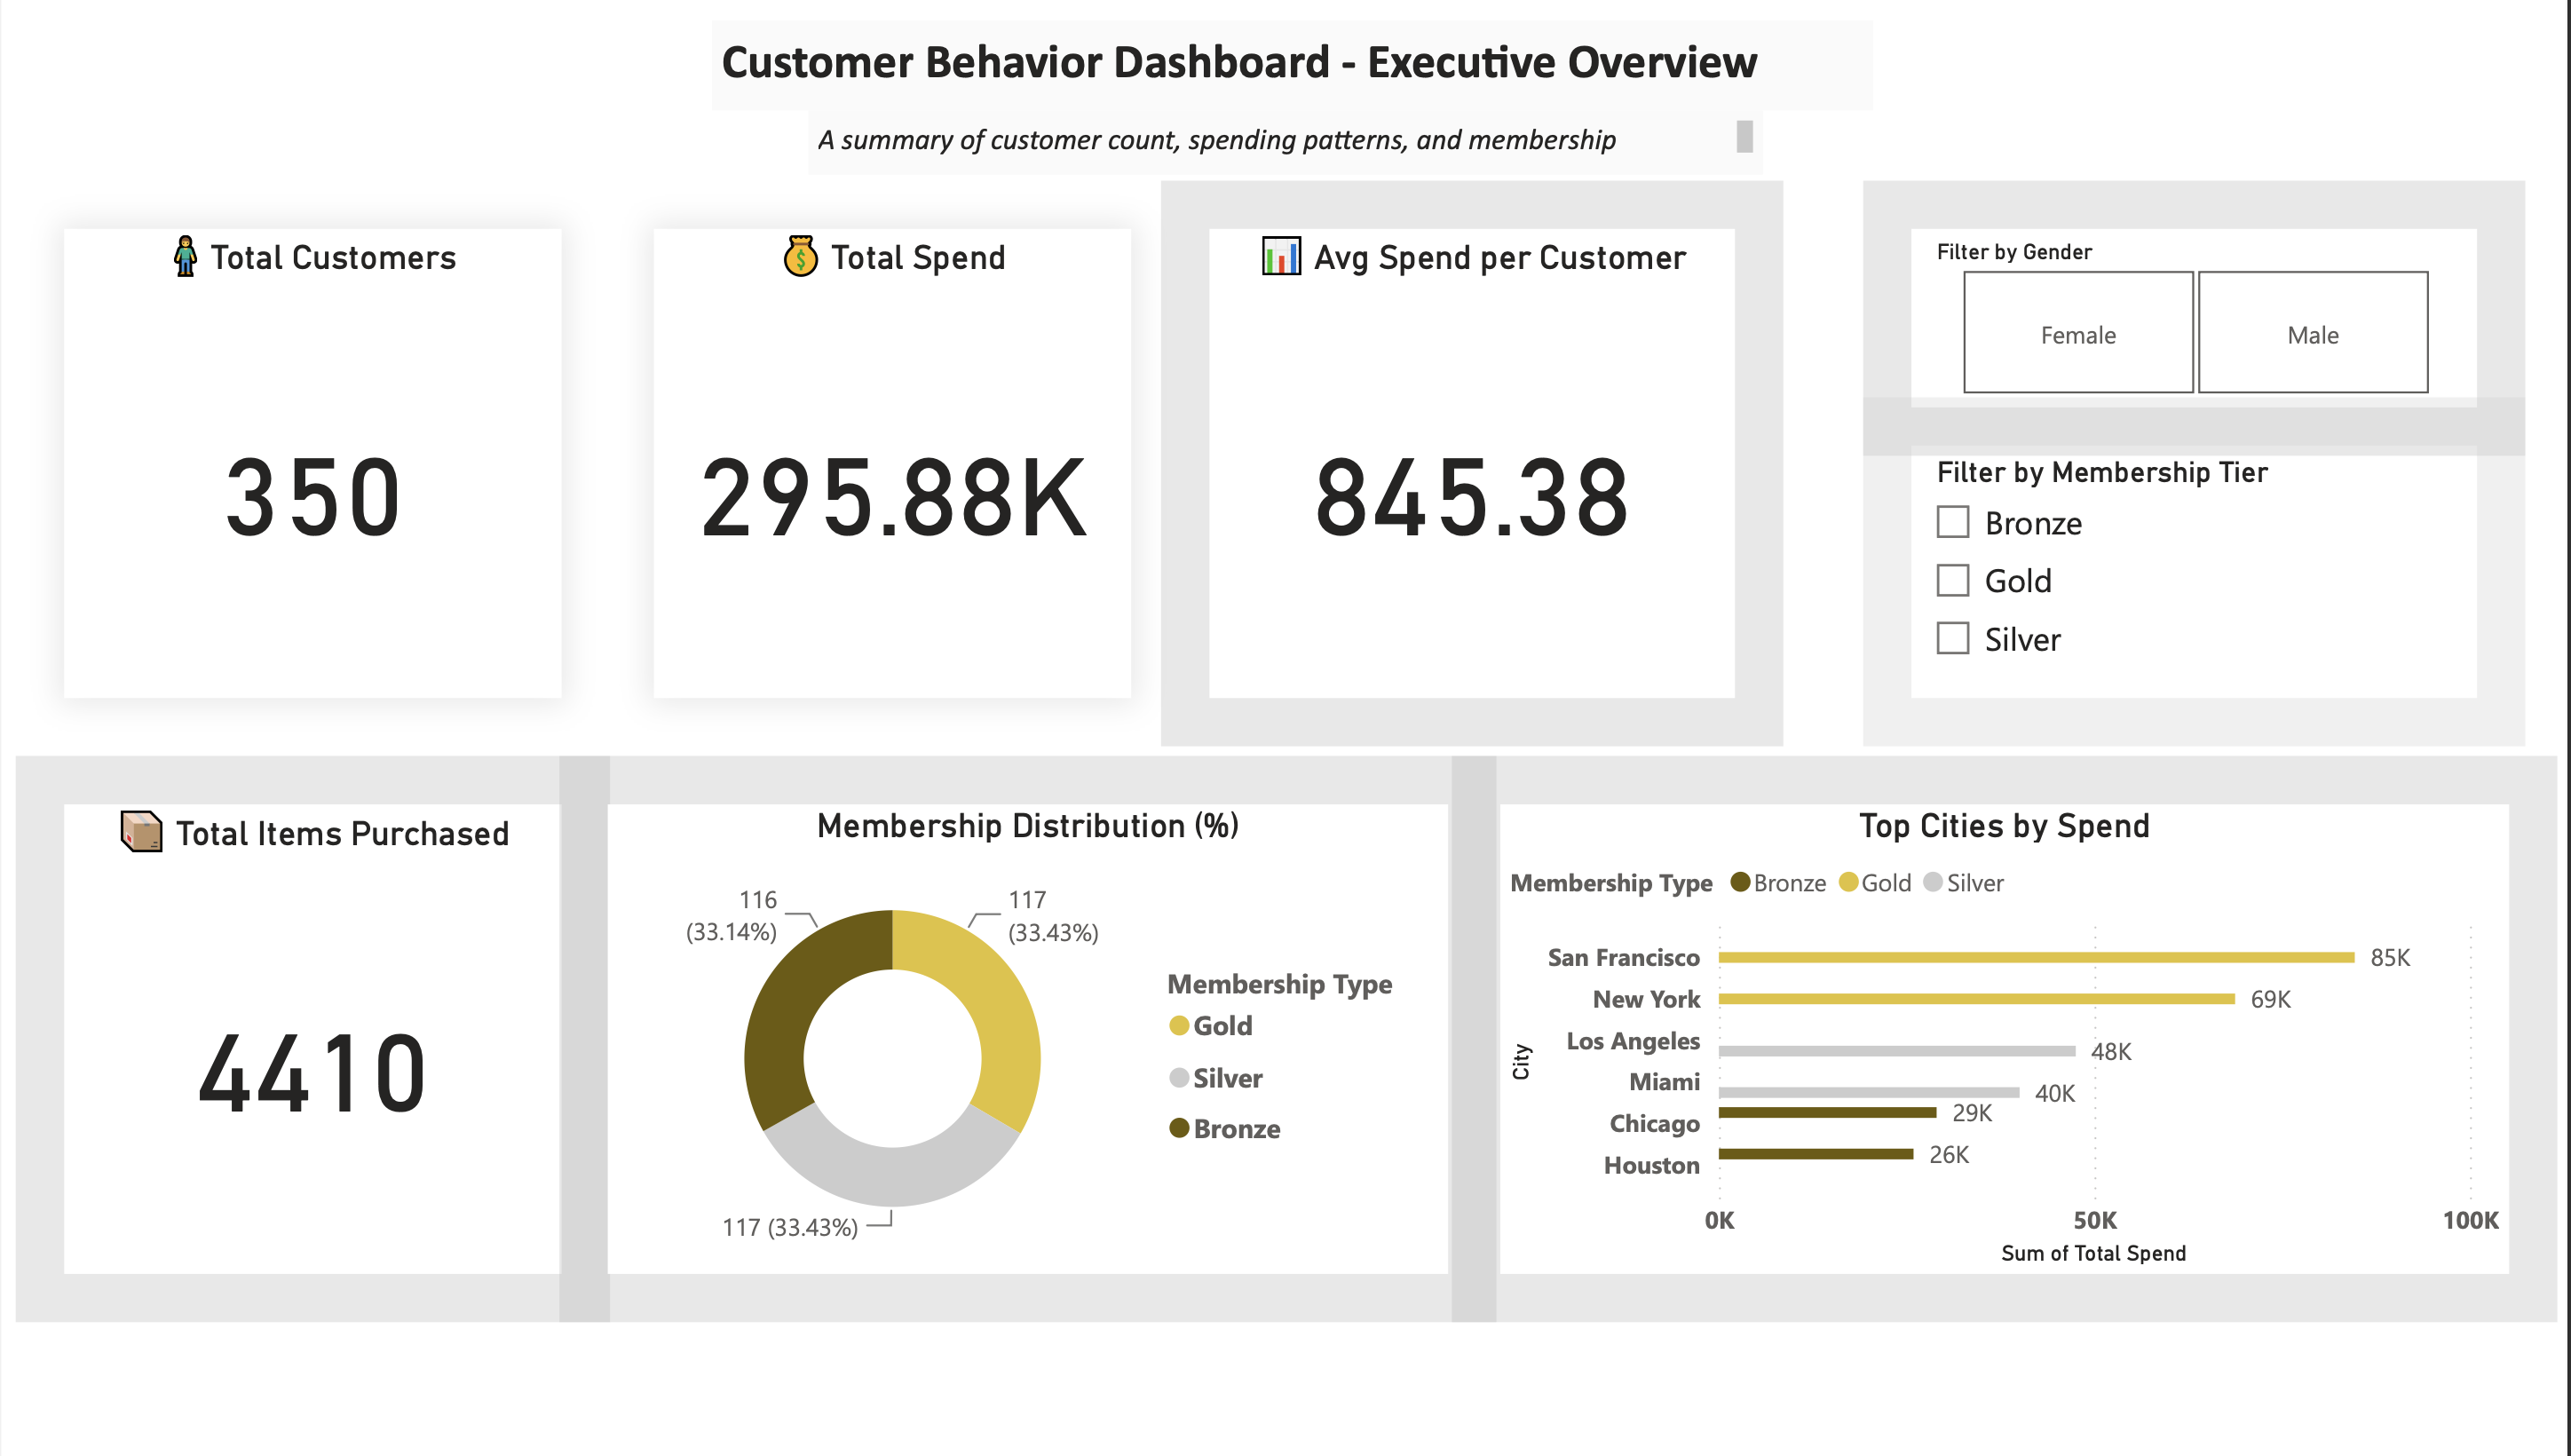

The page's visual inventory and layout, read from the dashboard file:
{"tool":"powerbi","page":{"name":"Page 1","canvas":[1280,720],"ordinal":0},"visuals":[{"type":"card","title":"🧍 Total Customers","fields":{"Values":["Count(E-commerce Customer Behavior - Sheet1.Customer ID)"]},"box":[31.8,112.2,248.3,234.4],"z":0},{"type":"card","title":"💰 Total Spend","fields":{"Values":["Sum(E-commerce Customer Behavior - Sheet1.Total Spend)"]},"box":[325.7,112.2,238.3,234.4],"z":1000},{"type":"card","title":"📦  Total Items Purchased","fields":{"Values":["Sum(E-commerce Customer Behavior - Sheet1.Items Purchased)"]},"box":[31.8,399.2,248.3,234.4],"z":2000},{"type":"card","title":"📊 Avg Spend per Customer","fields":{"Values":["Avg(E-commerce Customer Behavior - Sheet1.Total Spend)"]},"box":[602.8,112.2,262.2,234.4],"z":3000},{"type":"donutChart","title":"Membership Distribution (%)","fields":{"Y":["CountNonNull(E-commerce Customer Behavior - Sheet1.Customer ID)"],"Category":["E-commerce Customer Behavior - Sheet1.Membership Type"]},"box":[302.9,399.2,419.1,234.4],"z":4000},{"type":"clusteredBarChart","title":"Top Cities by Spend","fields":{"Category":["E-commerce Customer Behavior - Sheet1.City"],"Y":["Sum(E-commerce Customer Behavior - Sheet1.Total Spend)"],"Series":["E-commerce Customer Behavior - Sheet1.Membership Type"]},"box":[747.7,399.2,503.5,234.4],"z":5000},{"type":"textbox","box":[354.5,7.9,578.9,44.7],"z":6000},{"type":"textbox","box":[403.2,52.6,475.7,31.8],"z":7000},{"type":"slicer","fields":{"Values":["E-commerce Customer Behavior - Sheet1.Gender"]},"box":[953.3,112.2,282,89.4],"z":8000},{"type":"slicer","fields":{"Values":["E-commerce Customer Behavior - Sheet1.Membership Type"]},"box":[953.3,220.4,282,126.1],"z":9000}]}

Visuals, with their boxes in screenshot pixels (x1, y1, x2, y2), scaled from the page's 1280x720 canvas onto the 2571x1456 screenshot:
"🧍 Total Customers" card: [x1=64, y1=227, x2=563, y2=700]
"💰 Total Spend" card: [x1=654, y1=227, x2=1133, y2=700]
"📦  Total Items Purchased" card: [x1=64, y1=807, x2=563, y2=1281]
"📊 Avg Spend per Customer" card: [x1=1211, y1=227, x2=1737, y2=700]
"Membership Distribution (%)" donutChart: [x1=608, y1=807, x2=1451, y2=1281]
"Top Cities by Spend" clusteredBarChart: [x1=1502, y1=807, x2=2513, y2=1281]
textbox: [x1=712, y1=16, x2=1875, y2=107]
textbox: [x1=810, y1=107, x2=1766, y2=170]
slicer - E-commerce Customer Behavior - Sheet1.Gender: [x1=1915, y1=227, x2=2481, y2=408]
slicer - E-commerce Customer Behavior - Sheet1.Membership Type: [x1=1915, y1=446, x2=2481, y2=700]
